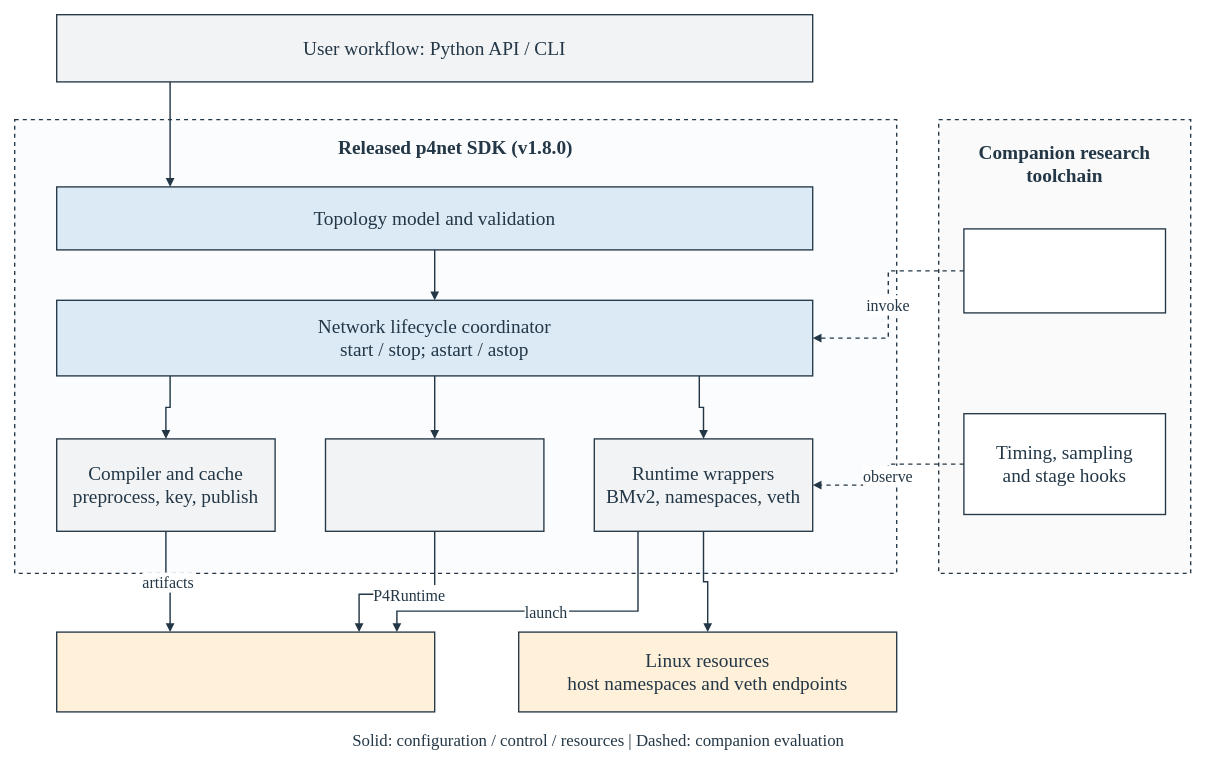
Image size: 1206x769. Some labels were removed from this diagram. The centre of each missing label's shape, as x and y in pixels:
"BMv2 processes program JSON; gRPC control" goes at point 245,671.
"P4Runtime clients synchronous / async" goes at point 434,485.
"Workload and fault controller" goes at point 1064,270.
